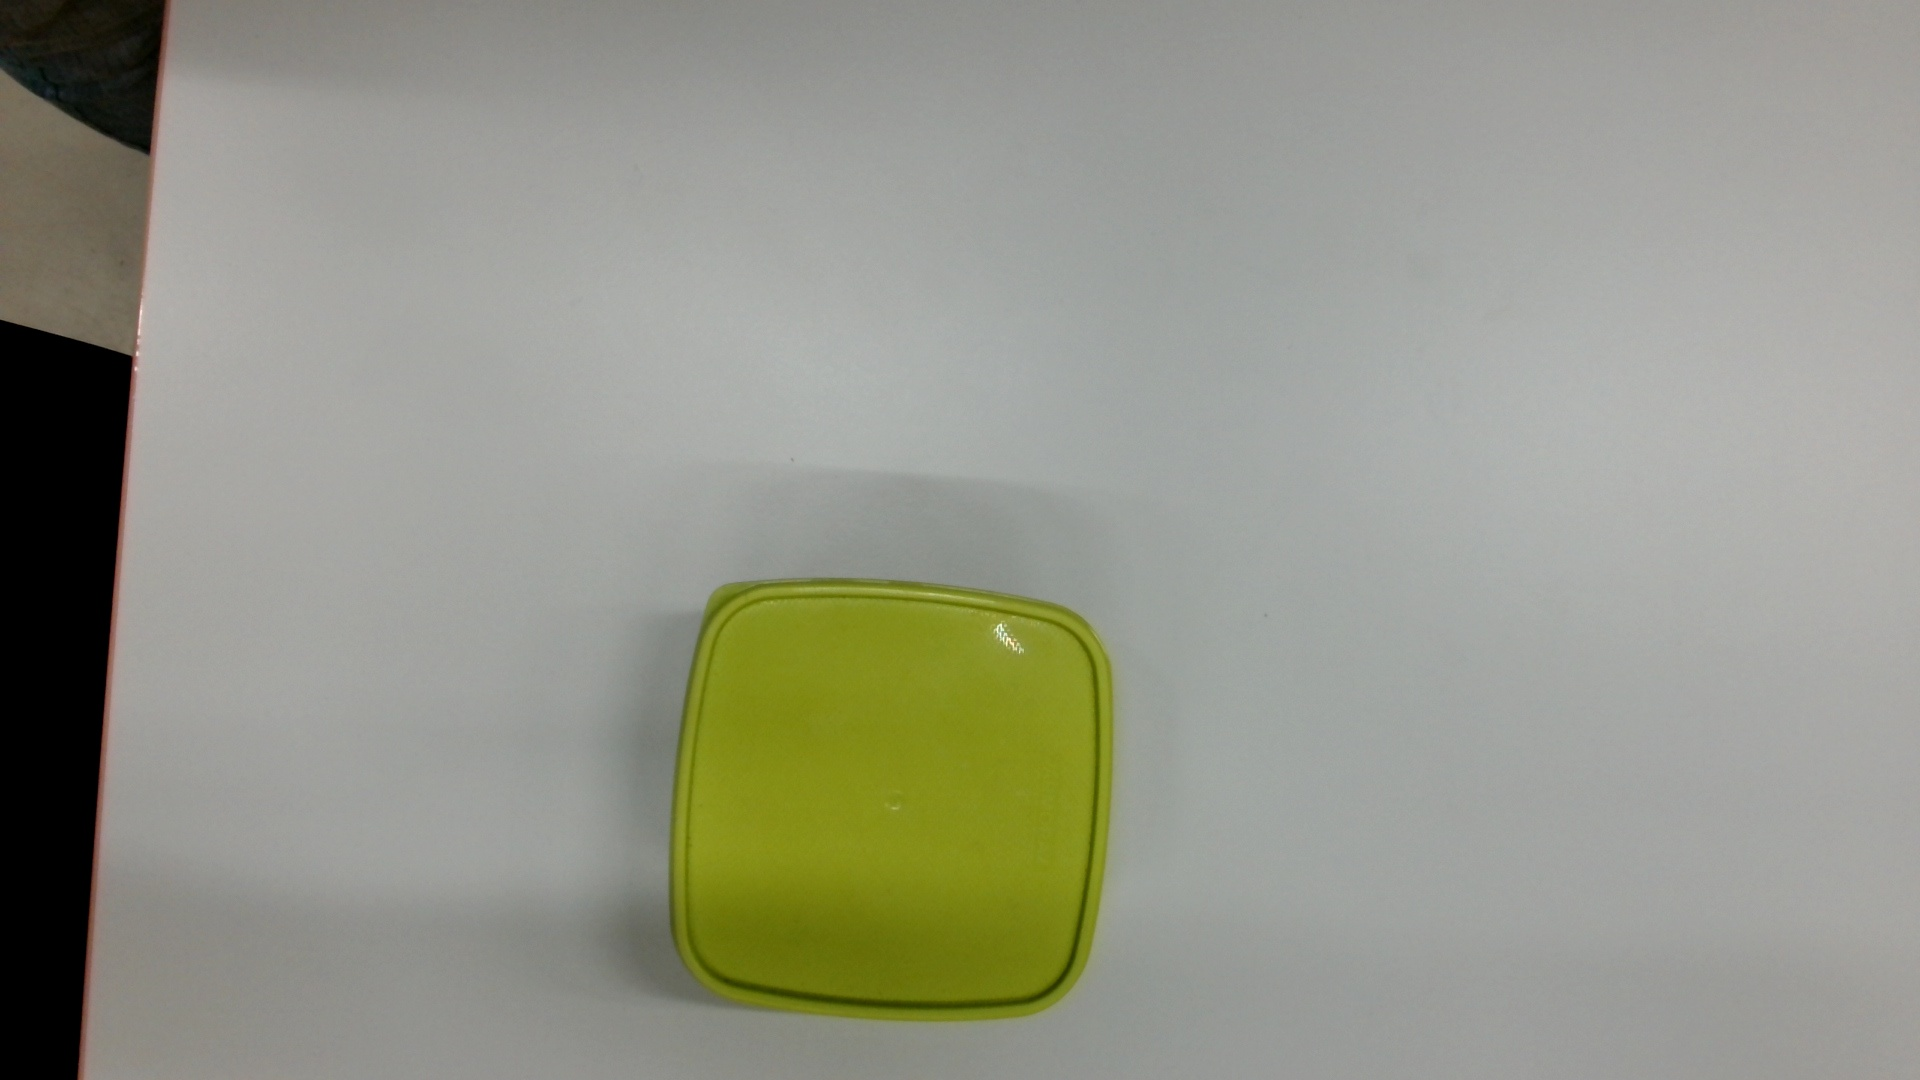Box: (661, 566, 1129, 1038)
